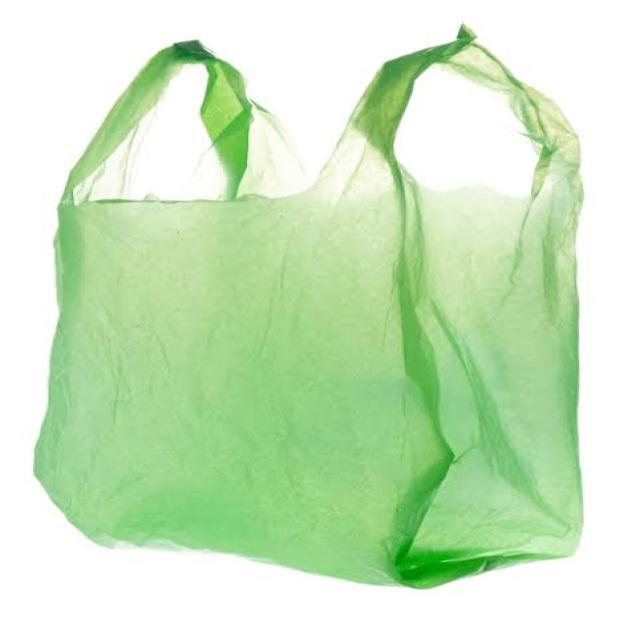plastic bag: (16, 27, 594, 594)
